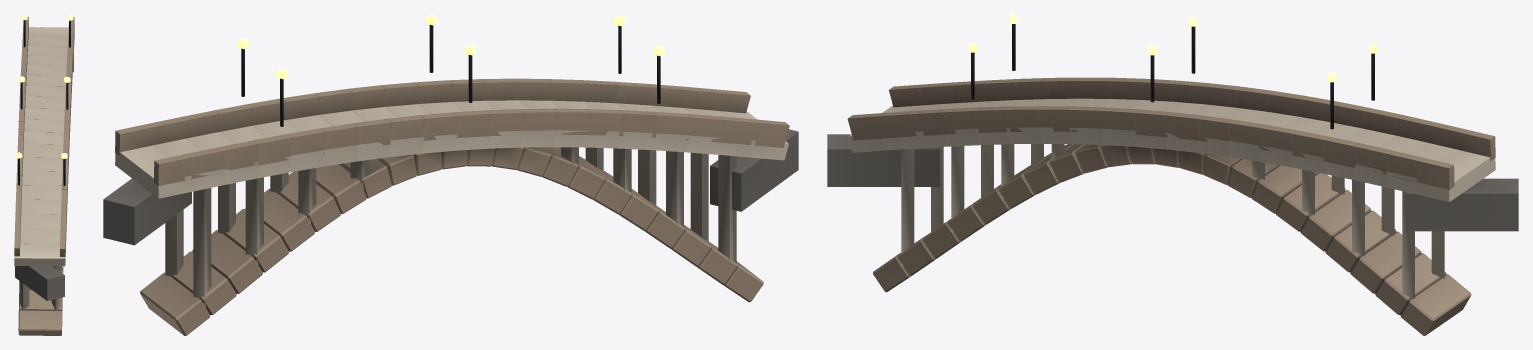
File: about_resume.glb
The picture shows the model from 3 angles, left to right: view 1: azimuth 30°, elevation 25°; view 2: azimuth 150°, elevation 25°; view 3: azimuth 270°, elevation 25°; orthographic projection. The views are drawn at different scales.
Visible parts, largest first — view 1: bridge; view 2: bridge; view 3: bridge.
Part boxes in pixels (x1,y1,x2,y2): bridge: (14, 14, 74, 335); bridge: (103, 14, 798, 335); bridge: (827, 14, 1518, 335).
Bounding box in the file's own units: 7.48 × 6.24 × 11.68.
